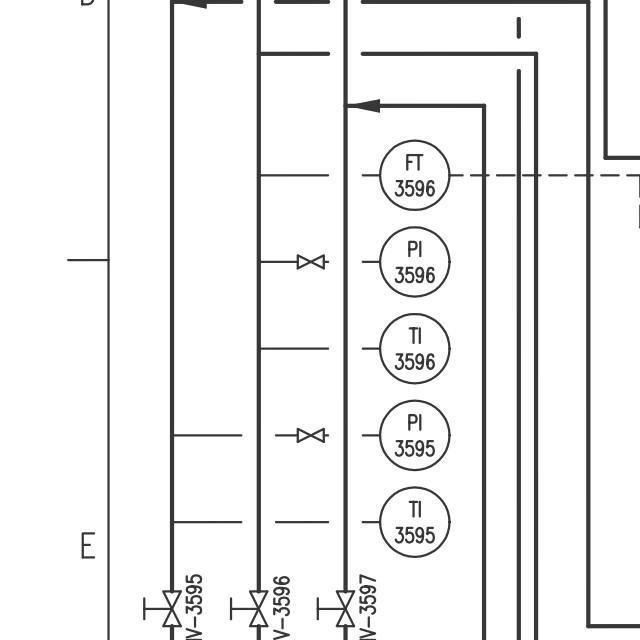GV: (292, 423, 327, 445), (292, 251, 329, 271)
HV: (133, 586, 183, 631), (312, 585, 358, 628), (225, 587, 269, 631)
